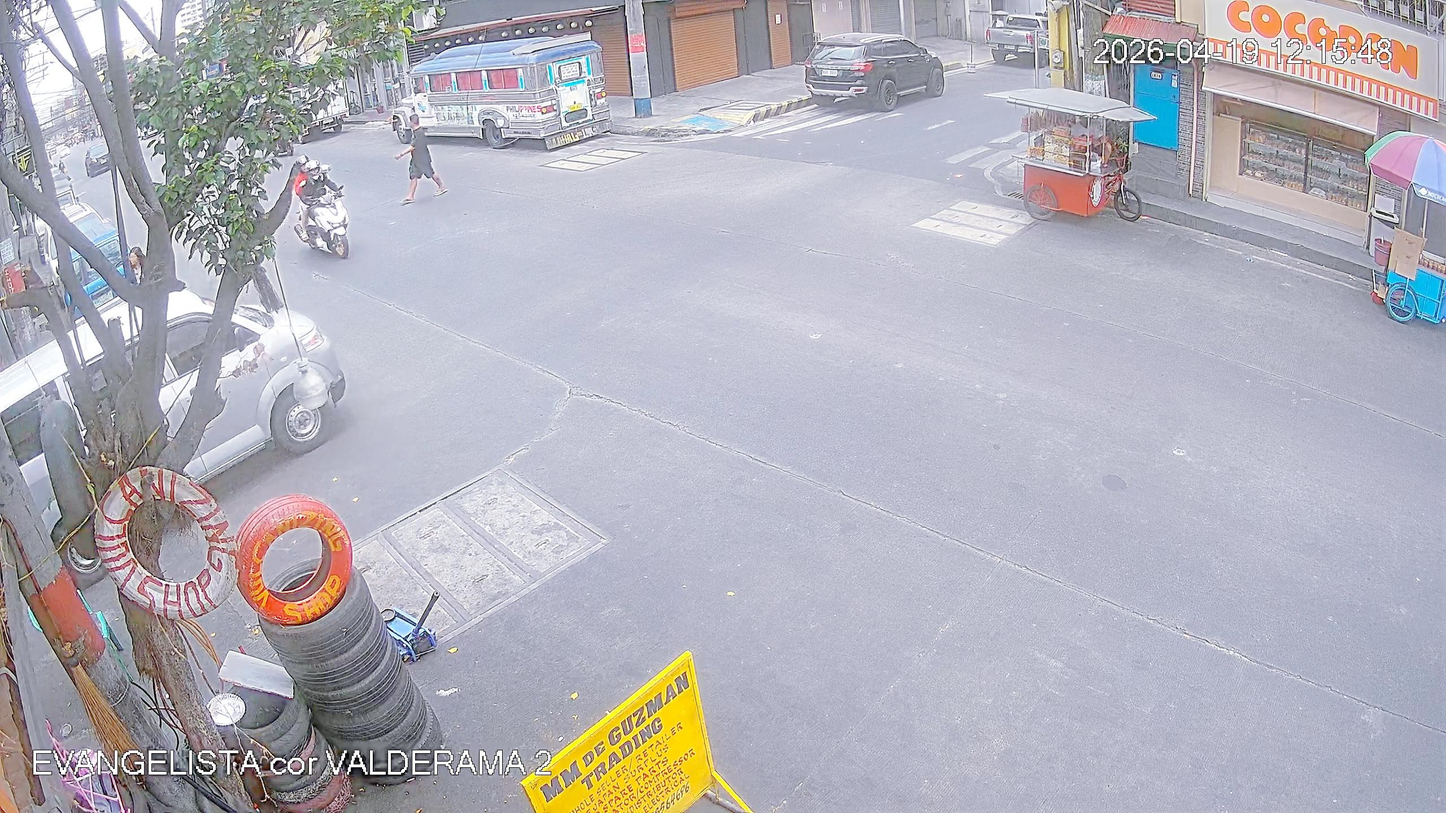Car: (0, 328, 356, 522), (782, 24, 958, 129), (974, 12, 1063, 93)
Motor: (278, 145, 362, 274)
Not Accident: (0, 136, 371, 530)
